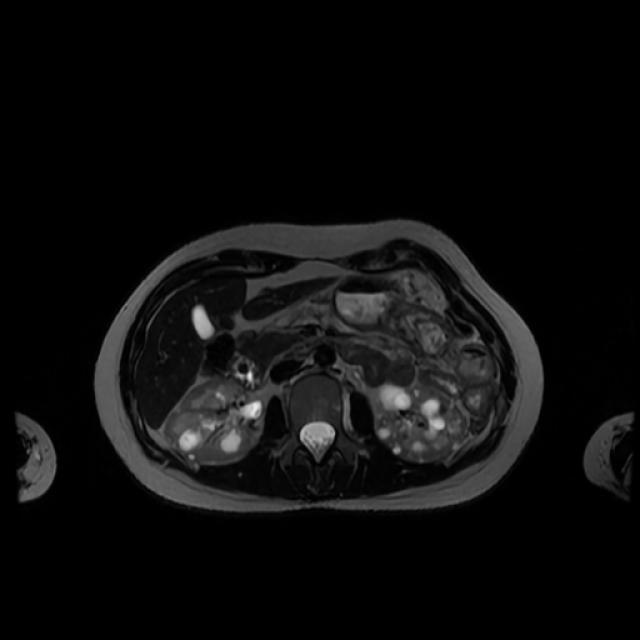sag: (163, 378, 263, 469)
sol: (371, 383, 471, 462)
